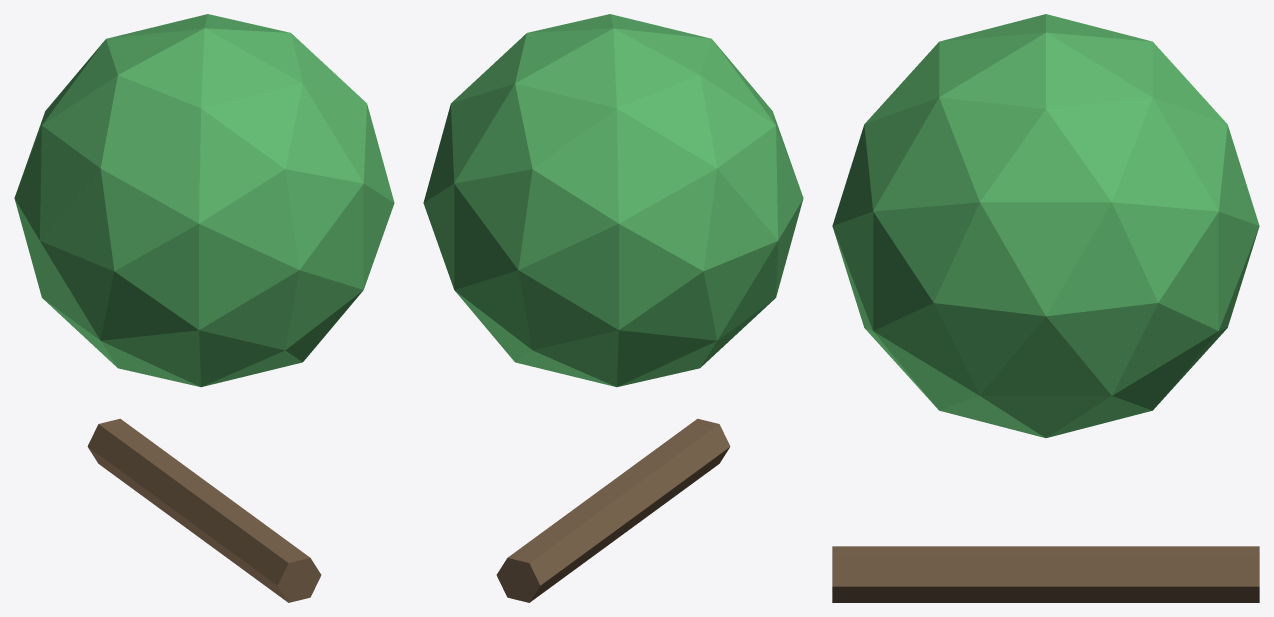
The model's file is tree_small.glb.
3 renders of one model, left to right at view 1: azimuth 30°, elevation 25°; view 2: azimuth 150°, elevation 25°; view 3: azimuth 270°, elevation 25°, orthographic. The views are drawn at different scales.
Visible parts, largest first — view 1: world; view 2: world; view 3: world.
Part boxes in pixels (bbox=[...]): world: bbox=[14, 14, 394, 602]; world: bbox=[423, 14, 803, 602]; world: bbox=[832, 14, 1259, 602].
Size of the model in its own units: 1.2 by 1.75 by 1.2.
